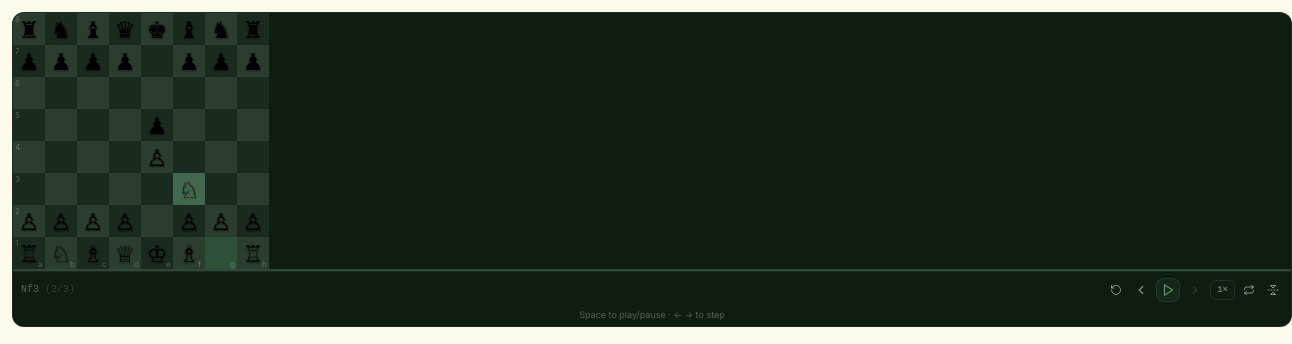
Test: MiniChessBoard — navigation › Previous button is disabled at start position
This screenshot has width=1292, height=344.
Step 1. Click the button named "Go to start" → [1116, 290], box [1106,280,1126,300]
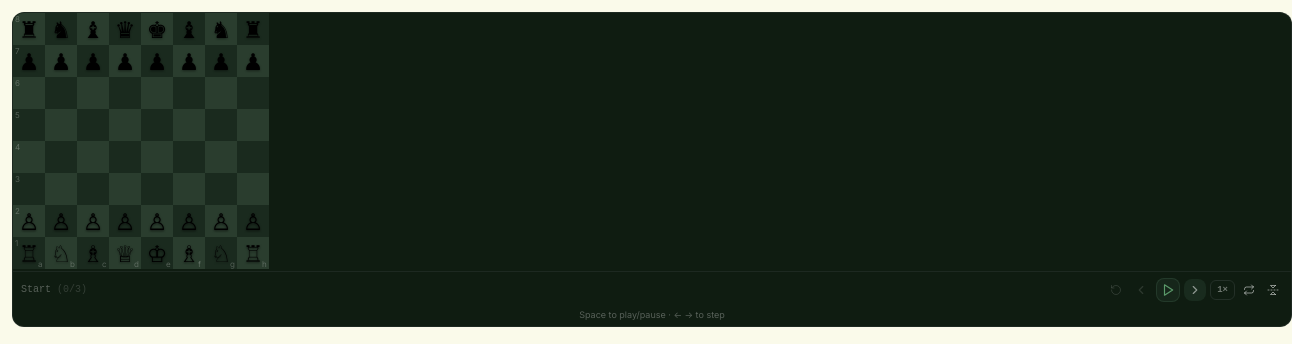
Expected: the button named "Previous move" is disabled, [1130,279,1152,301]
